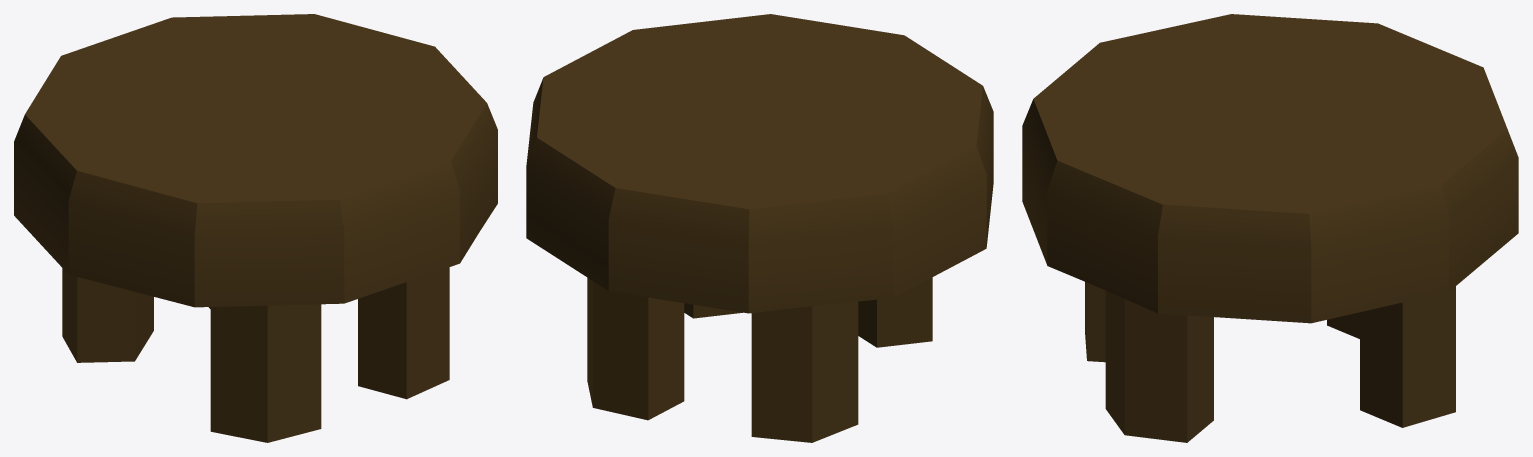
File: stool.fbx
3 views of the same model, side by side, from view 1: azimuth 30°, elevation 25°; view 2: azimuth 150°, elevation 25°; view 3: azimuth 270°, elevation 25° (orthographic). The views are drawn at different scales.
Parts seen in each view (by area): view 1: stool; view 2: stool; view 3: stool.
Boxes of the visible parts, bbox=[...] form: stool: bbox=[14, 14, 497, 442]; stool: bbox=[526, 14, 993, 442]; stool: bbox=[1022, 14, 1518, 442].
Size of the model in its own units: 103 by 59.17 by 103.
